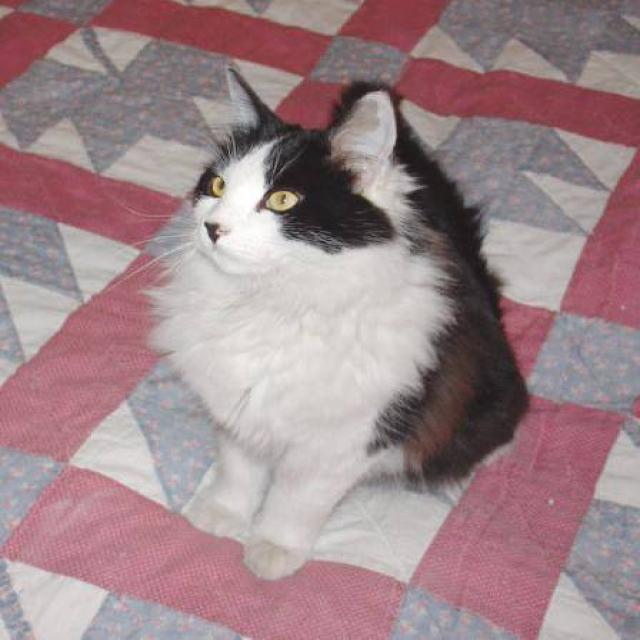cat: (129, 65, 530, 581)
